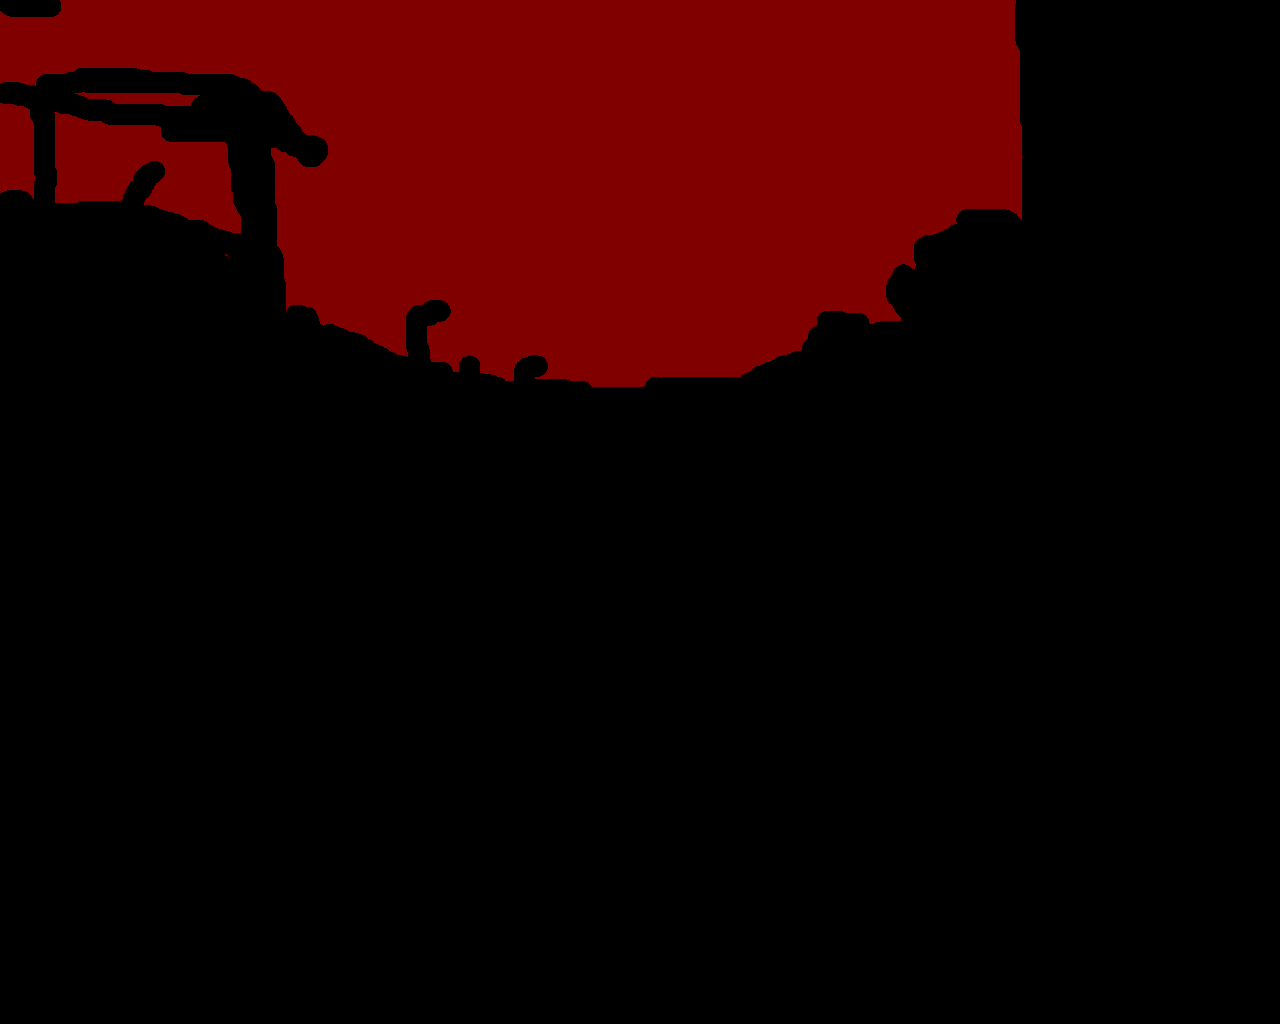Sky: (1, 1, 1022, 387)
